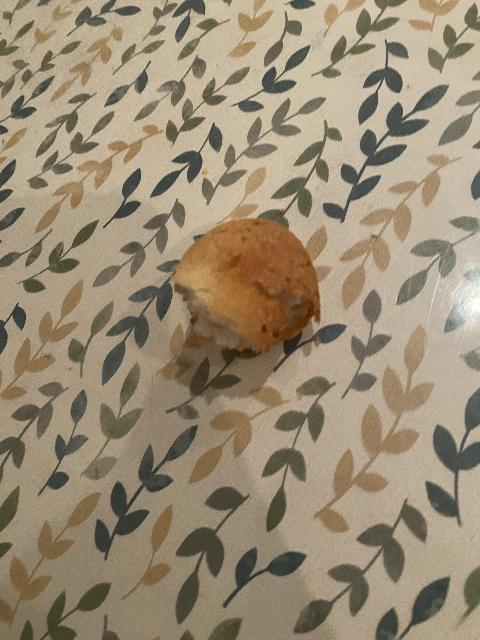Organik: (172, 218, 327, 357)
